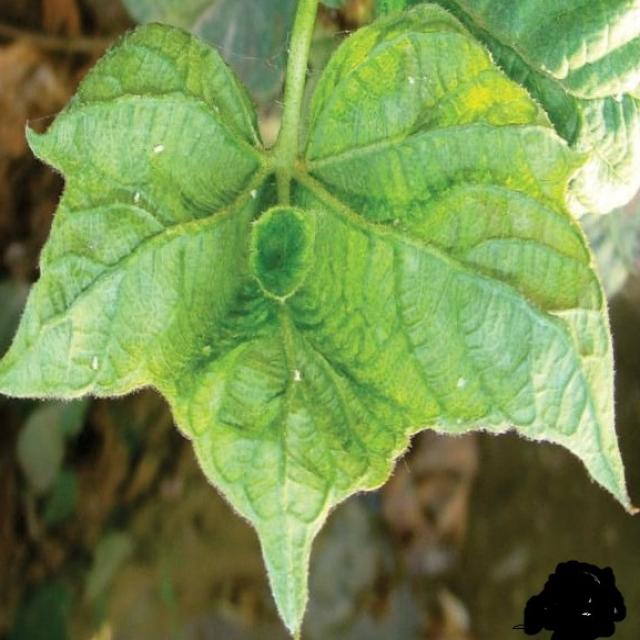Leaf Curl Virus: (118, 75, 505, 426)
